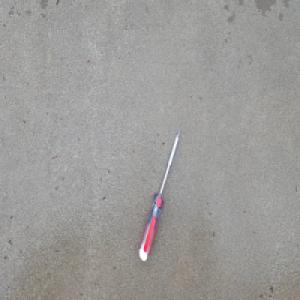Screwdriver: (136, 126, 181, 262)
